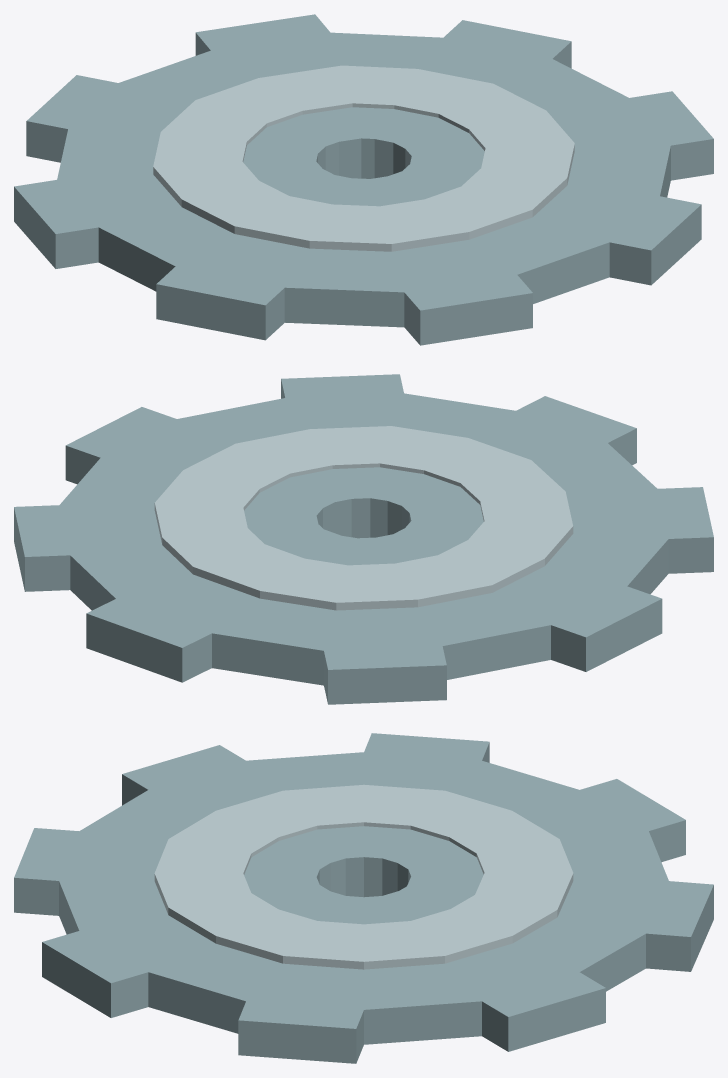
Rendered from Metallic part 3.fbx.
3 renders of one model, top to bottom at view 1: azimuth 30°, elevation 25°; view 2: azimuth 150°, elevation 25°; view 3: azimuth 270°, elevation 25°, orthographic.
Parts seen in each view (by area): view 1: Metallic part 3; view 2: Metallic part 3; view 3: Metallic part 3.
Part boxes in pixels (x1,y1,x2,y2): Metallic part 3: (14, 14, 713, 345); Metallic part 3: (14, 374, 713, 704); Metallic part 3: (14, 733, 713, 1063).
Bounding box in the file's own units: 6.94 × 0.5506 × 6.94.
